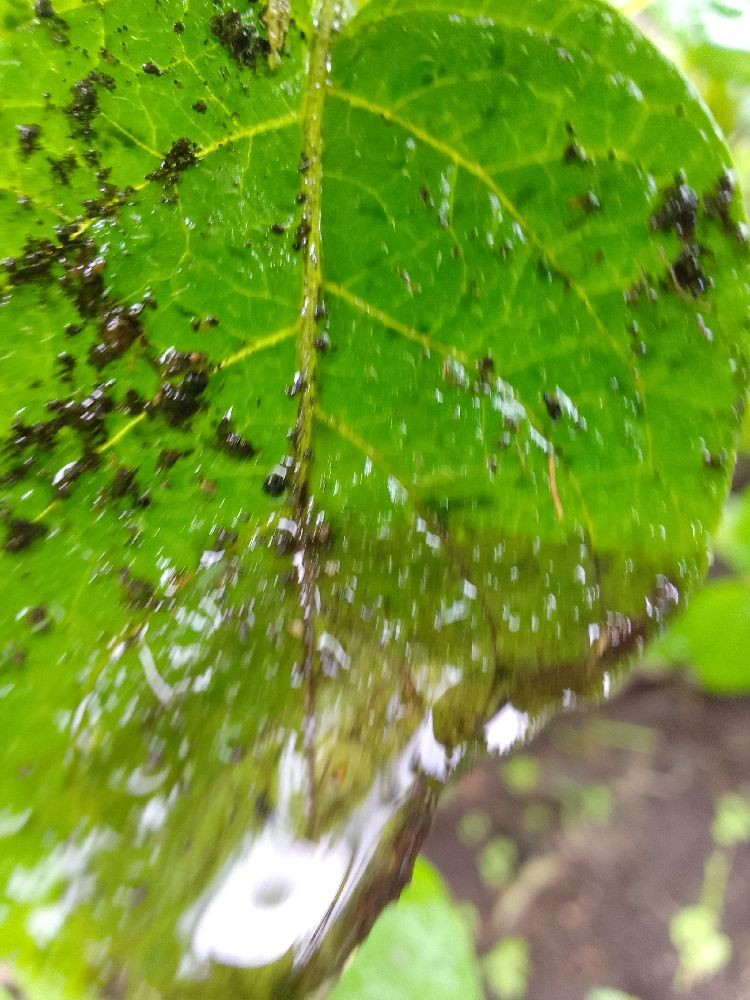late_blight: (261, 465, 749, 999), (0, 207, 168, 385), (635, 165, 750, 317), (124, 682, 230, 799)
